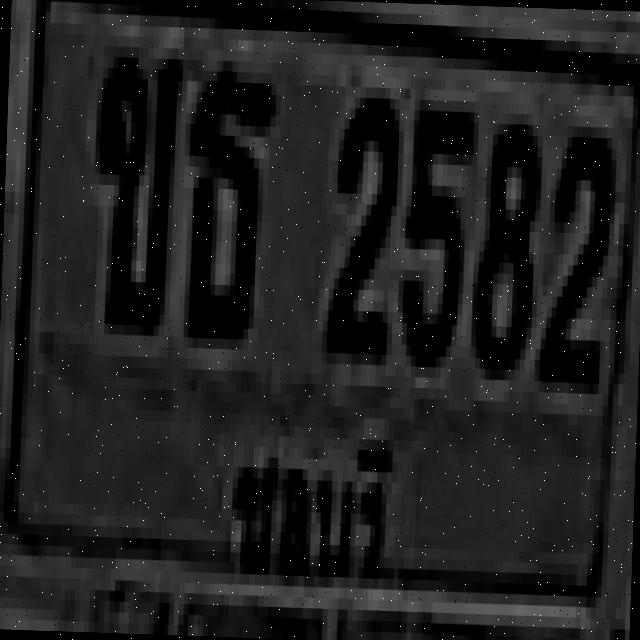11KhorKhai: (89, 46, 178, 326)
2: (327, 95, 400, 354), (540, 120, 612, 378)
33ThorThong: (178, 64, 272, 333)
5: (398, 100, 472, 358)
8: (470, 112, 538, 370)
Chonburi: (225, 410, 404, 586)
